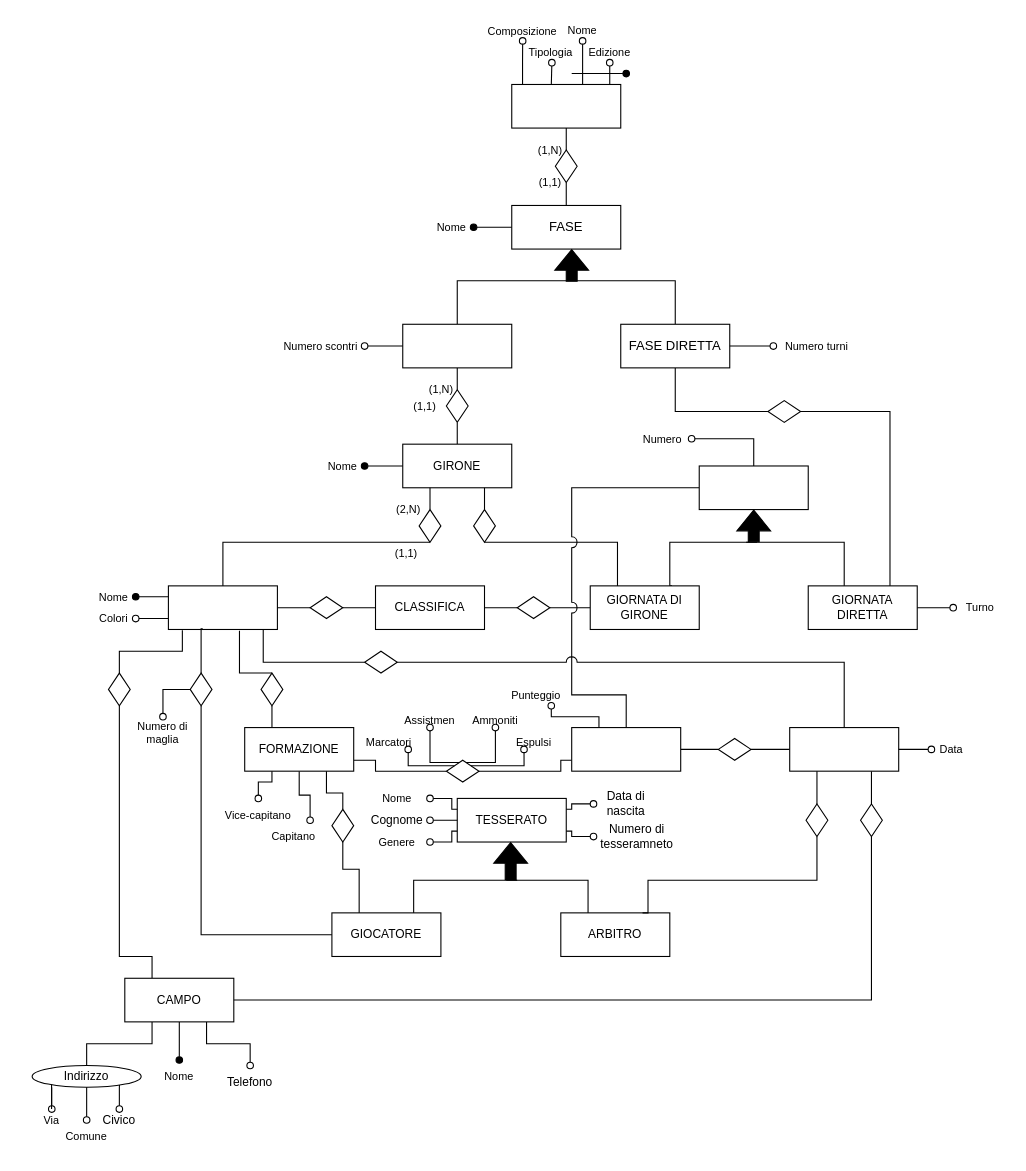
Image size: 1026x1171. Some labels were removed from this diagram. Each missing label, with the box of its shape:
FASE A GIRONI: (402, 323, 512, 368)
GIORNATA: (698, 465, 808, 510)
PARTITA: (789, 726, 899, 771)
RISULTATO PARTITA: (571, 726, 681, 771)
SQUADRA: (167, 585, 277, 629)
TORNEO: (511, 83, 621, 128)
